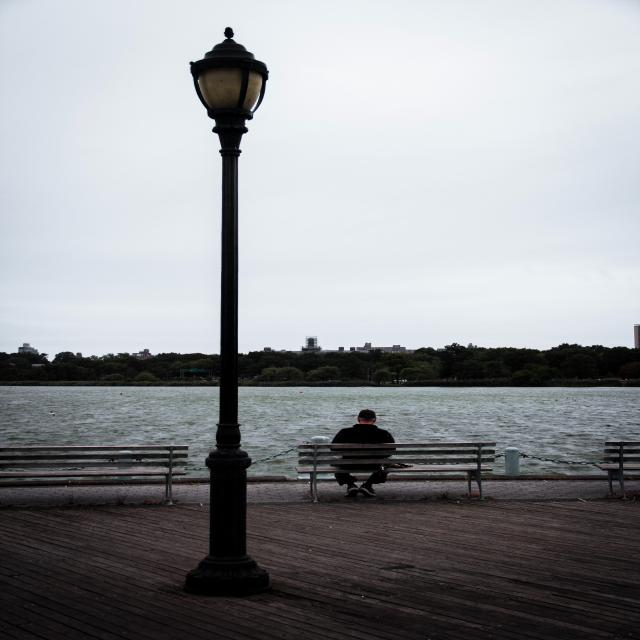Street Light: (189, 28, 271, 590)
